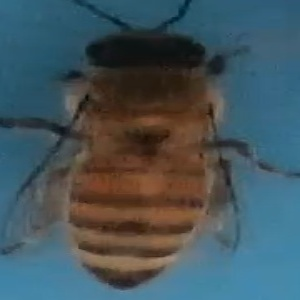bee: (10, 3, 282, 292)
